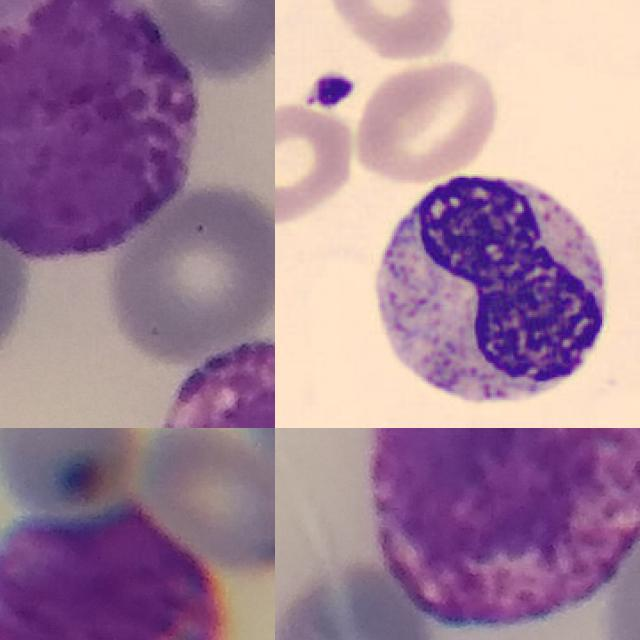Basophil: (372, 428, 640, 629), (0, 0, 200, 264), (0, 503, 226, 640), (153, 341, 275, 428)
Monocyte: (358, 153, 623, 428)
Platelets: (302, 68, 360, 111)
RBC: (350, 56, 506, 185), (275, 101, 358, 225), (319, 0, 459, 63)
